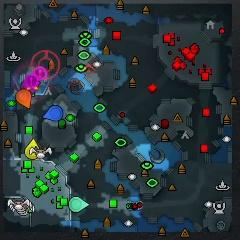Other: (34, 67, 47, 80), (25, 74, 38, 87)
p1: (44, 105, 64, 122)
p2: (69, 197, 89, 212)
p3: (20, 80, 40, 94)
p4: (25, 139, 40, 160)
p5: (16, 90, 32, 109)
